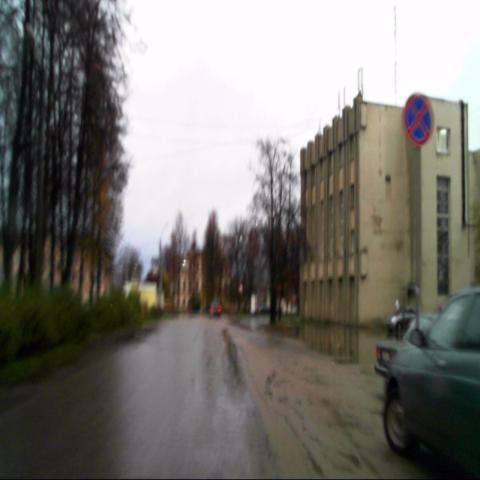3_27: (405, 92, 433, 146)
